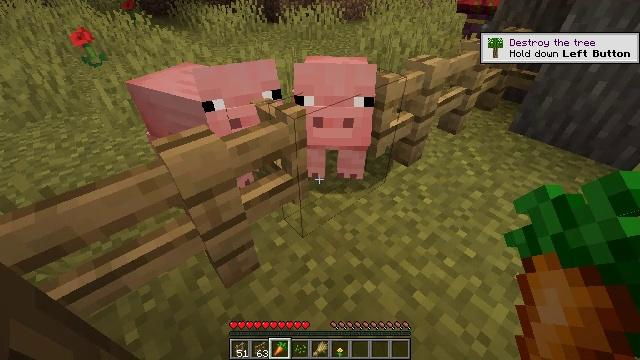pig: (124, 64, 285, 184), (294, 57, 376, 180)
